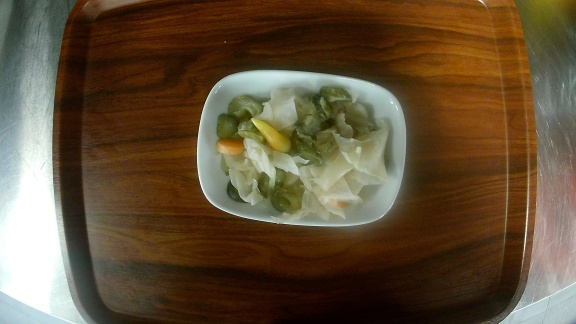tursu: (197, 68, 408, 226)
